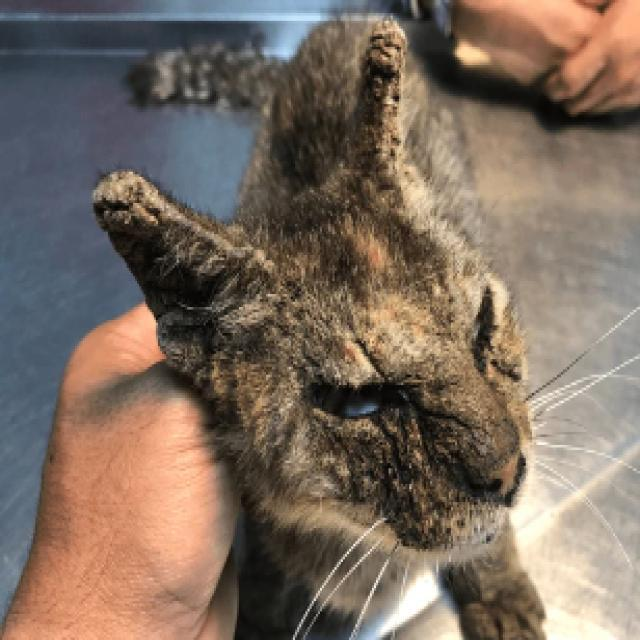Mange: (360, 20, 408, 170), (176, 208, 273, 276), (86, 165, 161, 239), (389, 300, 435, 356), (334, 334, 366, 372)
